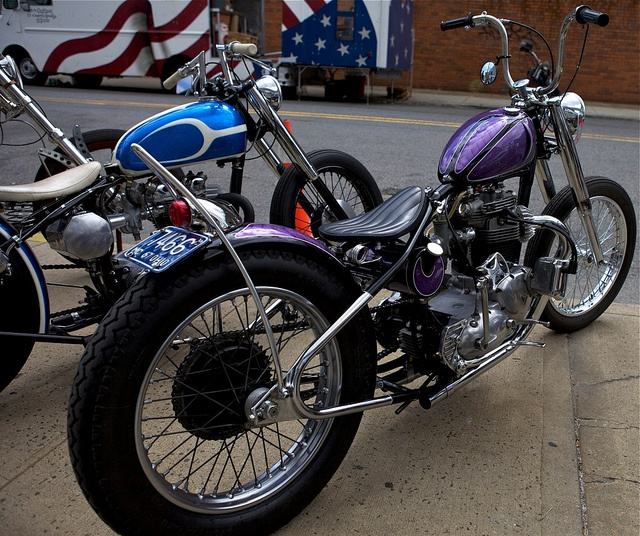non-vehicle: (66, 4, 636, 536), (0, 7, 384, 396)
